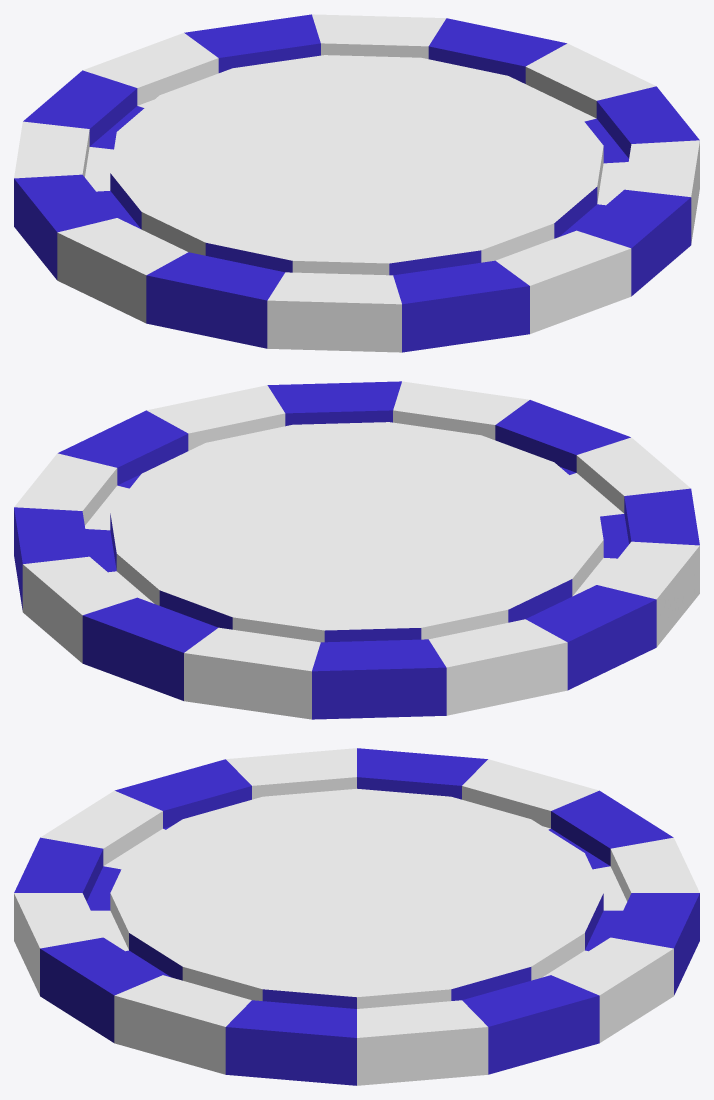
The model's file is InverseBlueishChip.fbx.
3 views of the same model, one above another, from view 1: azimuth 30°, elevation 25°; view 2: azimuth 150°, elevation 25°; view 3: azimuth 270°, elevation 25° (orthographic).
Visible parts, largest first — view 1: Chip.004; view 2: Chip.004; view 3: Chip.004.
Part boxes in pixels (x1=…): Chip.004: x1=14, y1=14, x2=699, y2=352; Chip.004: x1=14, y1=381, x2=699, y2=719; Chip.004: x1=14, y1=748, x2=699, y2=1085.
Bounding box in the file's own units: 39 × 3.01 × 39.
